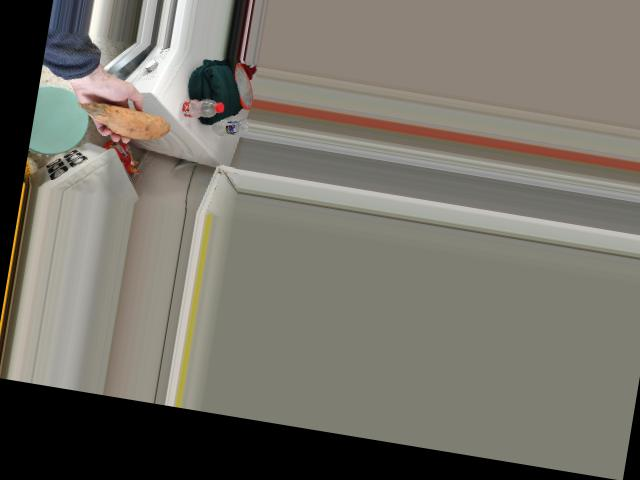sweet_potato: (79, 100, 163, 143)
